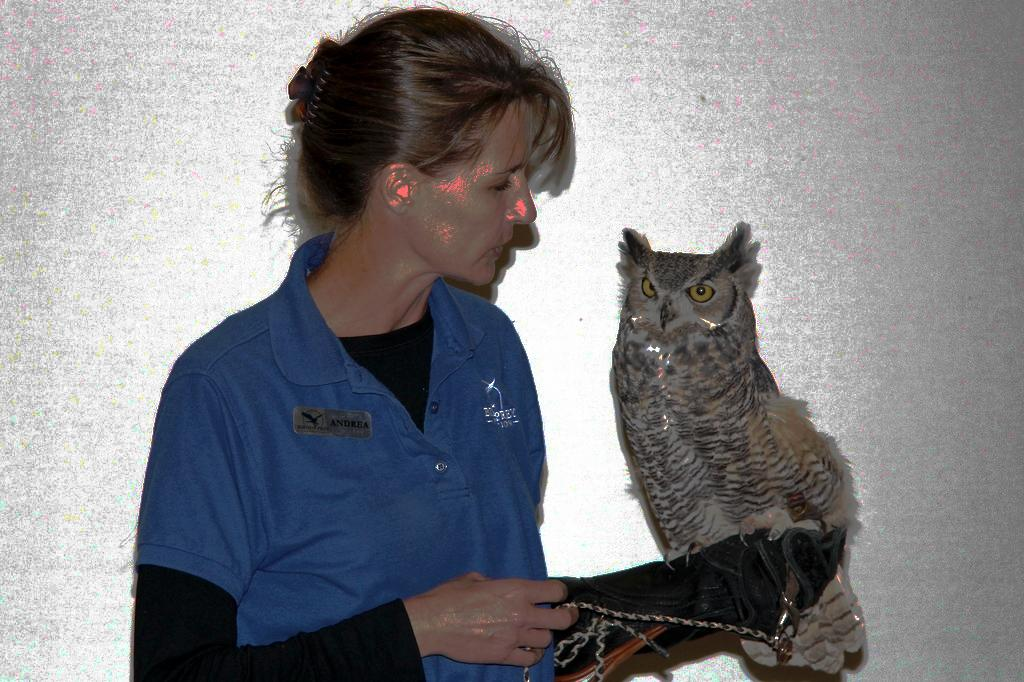Owl: (613, 226, 868, 680)
